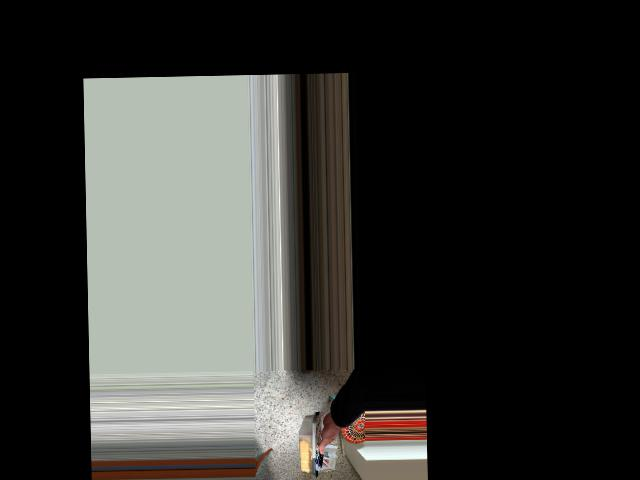cheese: (293, 407, 359, 476)
